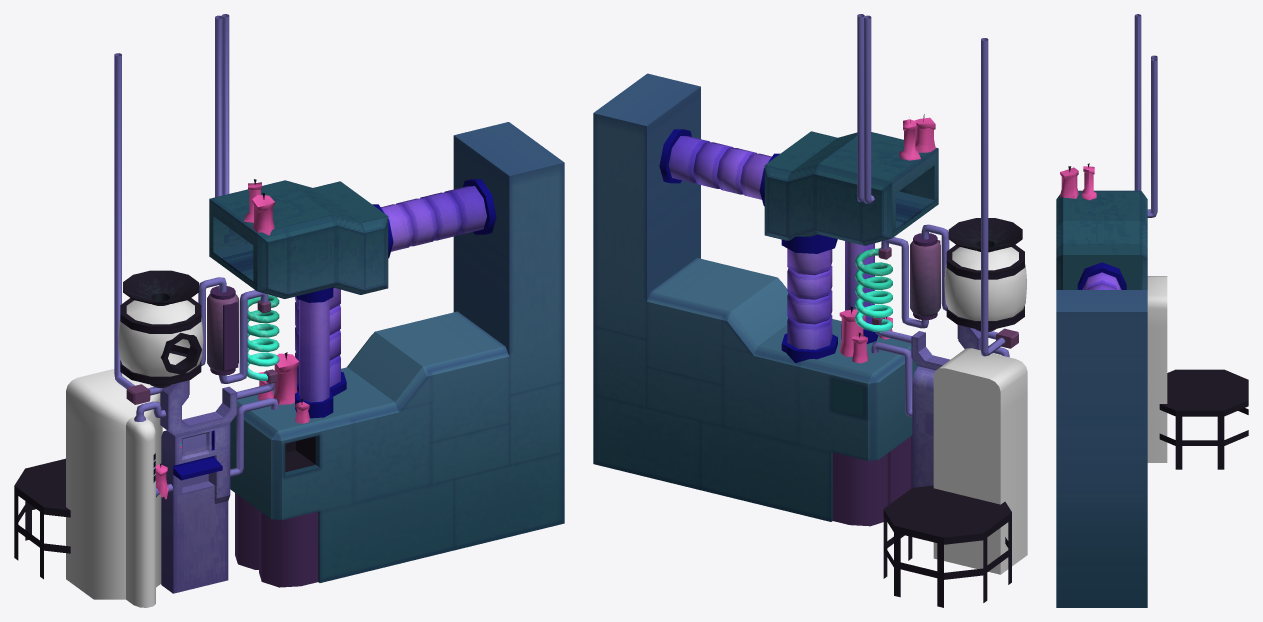
Rendered from newstaticmachine.fbx.
The picture shows the model from 3 angles, left to right: view 1: azimuth 30°, elevation 25°; view 2: azimuth 150°, elevation 25°; view 3: azimuth 270°, elevation 25°; orthographic projection. The views are drawn at different scales.
Parts seen in each view (by area): view 1: Cube.004; view 2: Cube.004; view 3: Cube.004.
Boxes of the visible parts, x1,y1,x2,y2 form: Cube.004: (14,14,564,607); Cube.004: (593,14,1027,607); Cube.004: (1056,14,1248,607).
Size of the model in its own units: 649 by 738 by 294.
